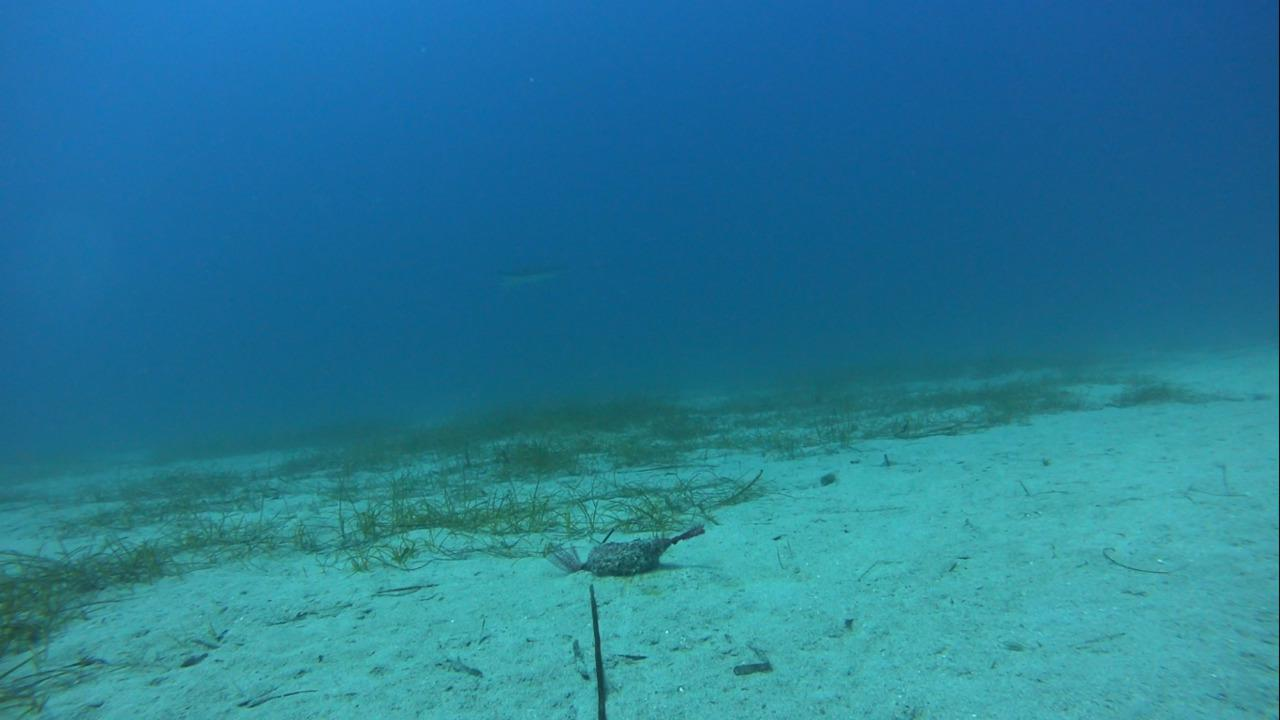myliobatis: (481, 238, 642, 299)
